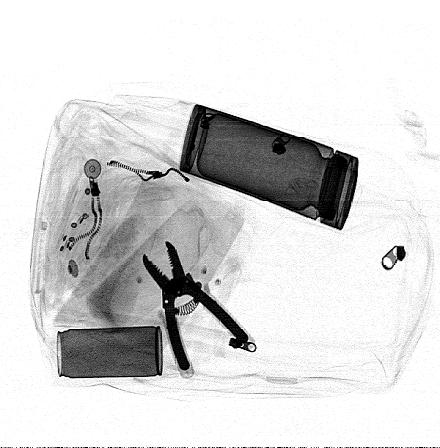Pliers: (141, 241, 248, 372)
